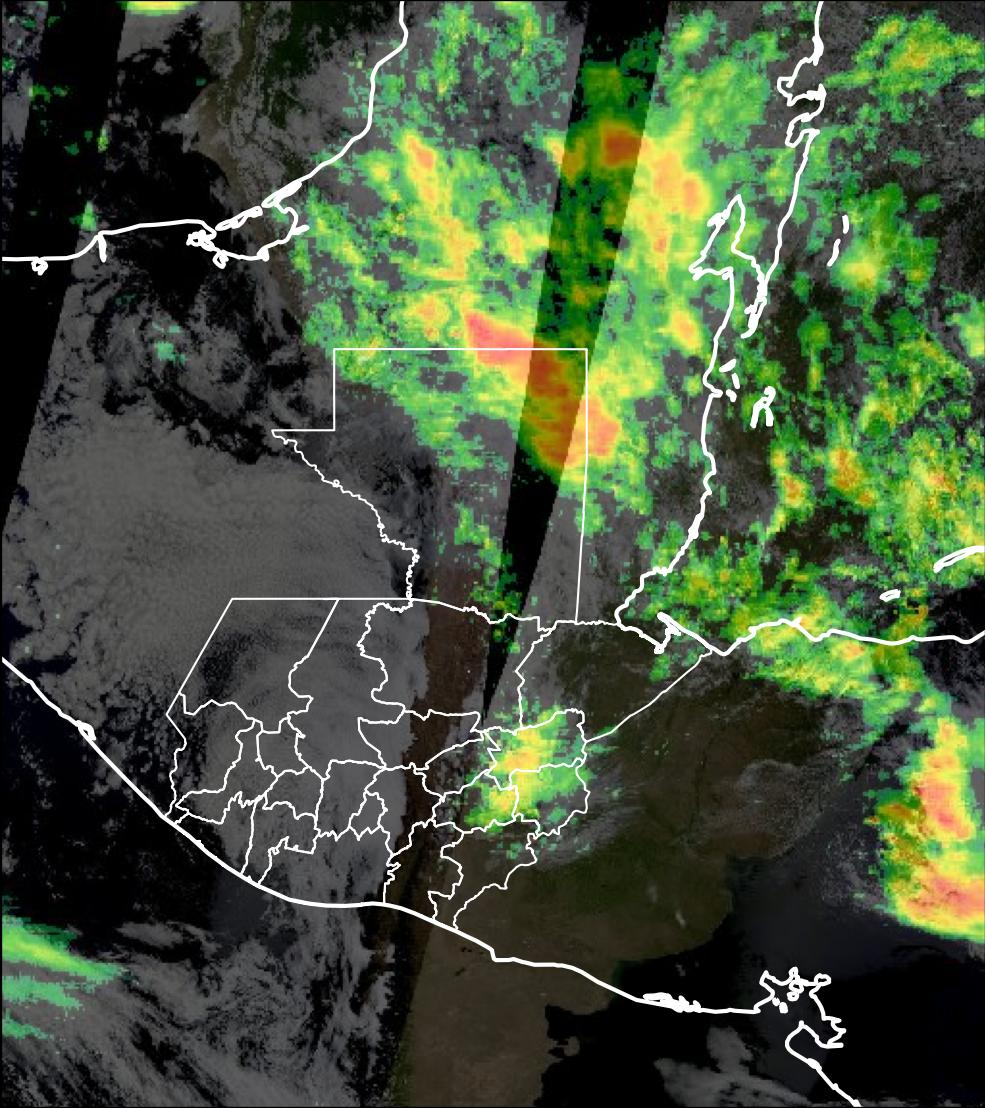precipitacion: (470, 307, 665, 493), (900, 740, 985, 949), (596, 110, 697, 269)
